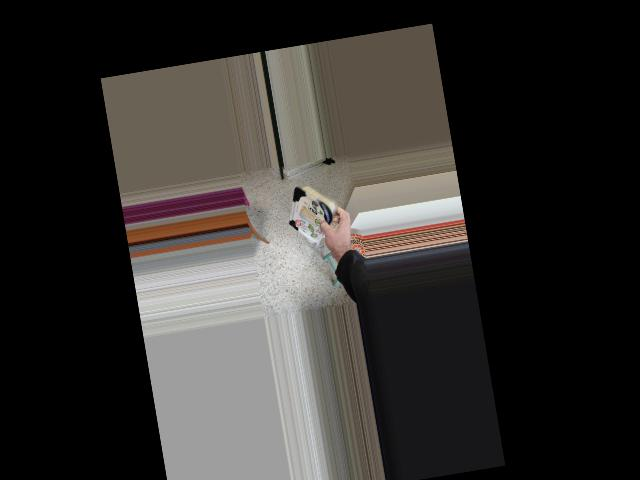cheese: (276, 178, 357, 244)
